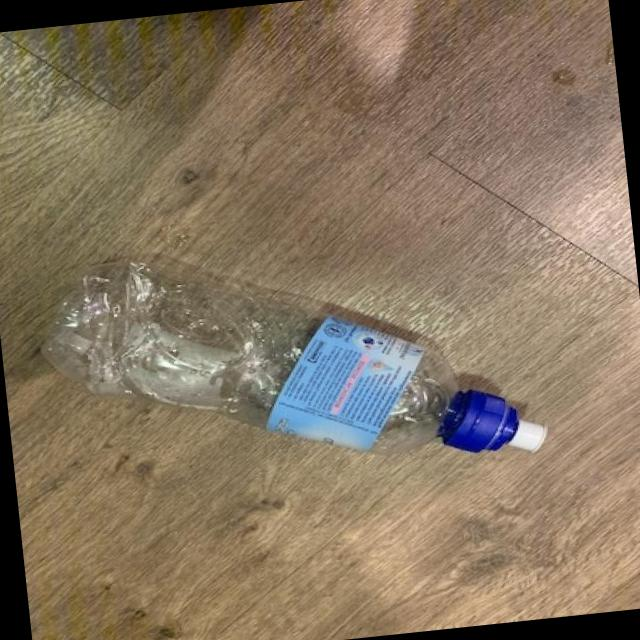plastic_bottle: (32, 217, 549, 502)
